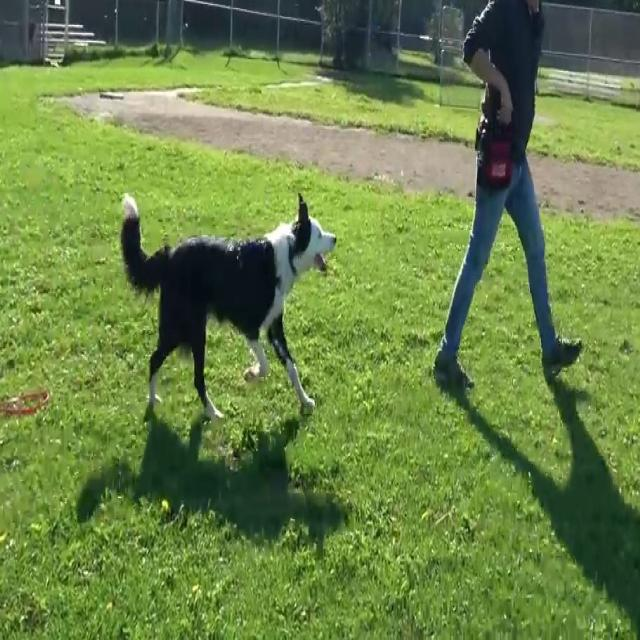Unleashed_Dog: (120, 191, 506, 421)
